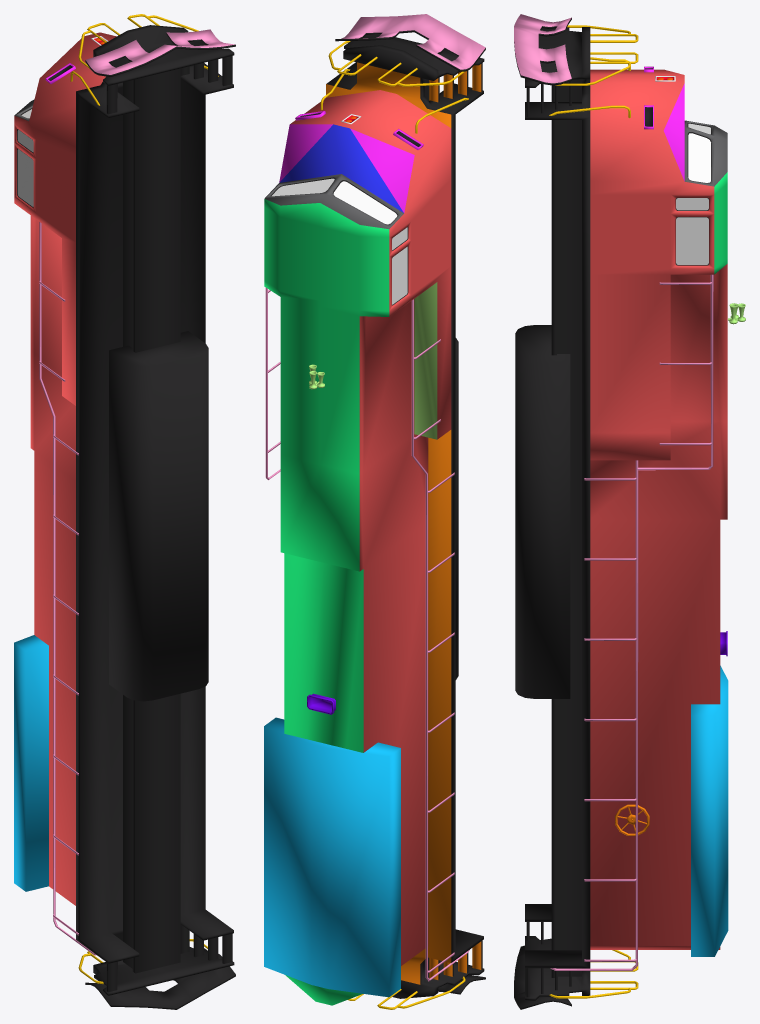
File: Locomotive_01_LOD_1.fbx
The picture shows the model from 3 angles, left to right: view 1: azimuth 30°, elevation 25°; view 2: azimuth 150°, elevation 25°; view 3: azimuth 270°, elevation 25°; orthographic projection.
Parts seen in each view (by area): view 1: Locomotive_01_LOD_1; view 2: Locomotive_01_LOD_1; view 3: Locomotive_01_LOD_1.
Boxes of the visible parts, x1,y1,x2,y2 form: Locomotive_01_LOD_1: [14, 14, 235, 1009]; Locomotive_01_LOD_1: [264, 14, 485, 1009]; Locomotive_01_LOD_1: [514, 14, 745, 1009].
Bounding box in the file's own units: 3.2 × 23.26 × 5.05.
